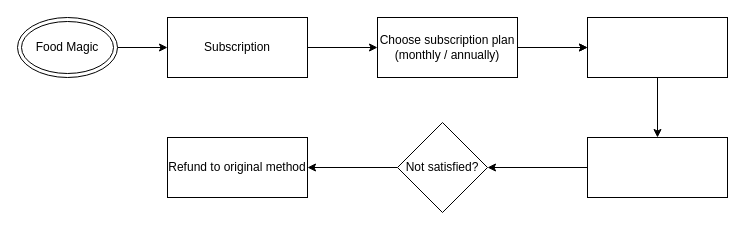
The diagram is 745 pixels wide and 230 high, and some of its shapes have lost their labels. The centre of each missing label's shape, as x and y in pixels:
Choose payment method (Credit card / Apple Pay / Google Pay): (x=657, y=47)
Confirm Payment: (x=657, y=167)
